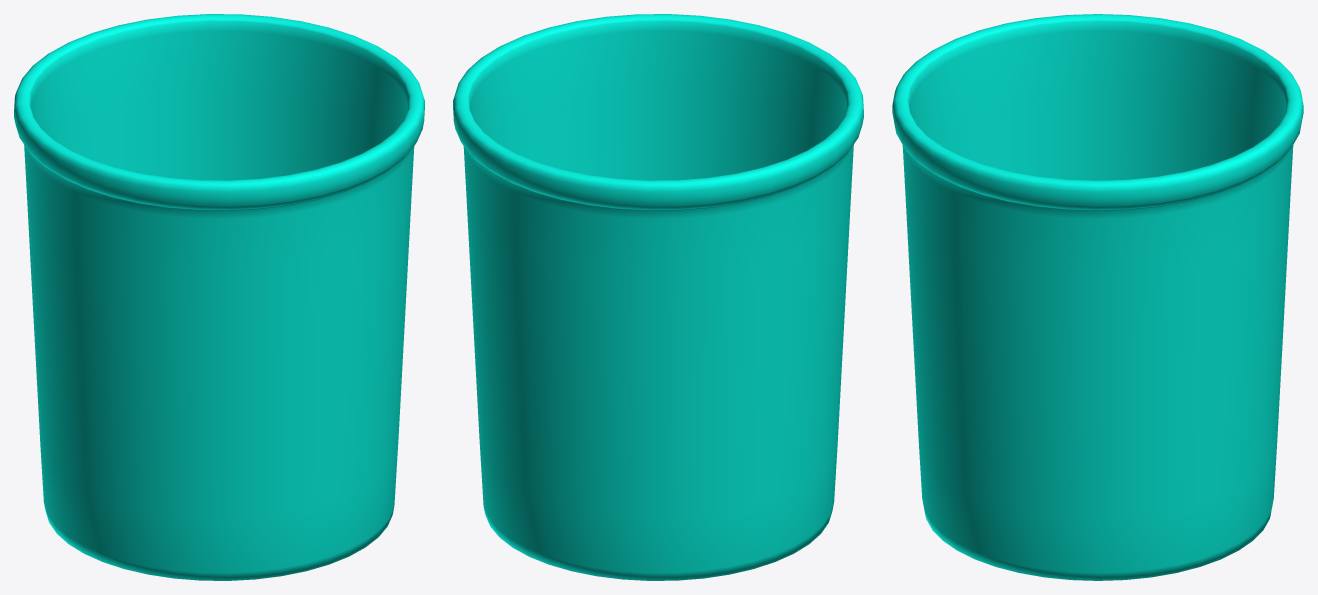
Rendered from umgebung_muelleimer_low.FBX.
The picture shows the model from 3 angles, left to right: view 1: azimuth 30°, elevation 25°; view 2: azimuth 150°, elevation 25°; view 3: azimuth 270°, elevation 25°; orthographic projection.
Visible parts, largest first — view 1: o_muelleimer_low; view 2: o_muelleimer_low; view 3: o_muelleimer_low.
Boxes of the visible parts, x1,y1,x2,y2 form: o_muelleimer_low: (14,14,424,580); o_muelleimer_low: (453,14,863,580); o_muelleimer_low: (892,14,1303,580).
Size of the model in its own units: 74.57 by 74.57 by 82.06.
